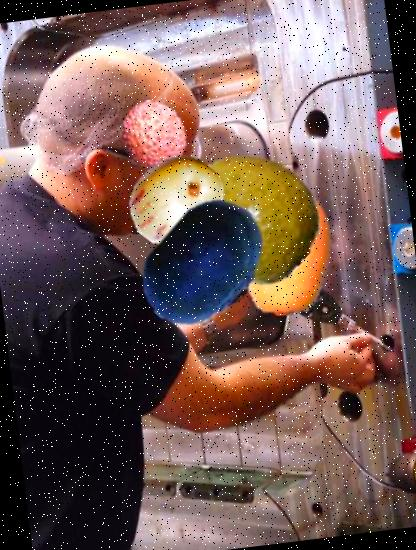Blueberry: (126, 188, 282, 342)
Guava: (177, 140, 329, 292)
Kumquats: (217, 186, 354, 322)
Lychee: (114, 96, 196, 177)
Pepino: (124, 148, 230, 256)
